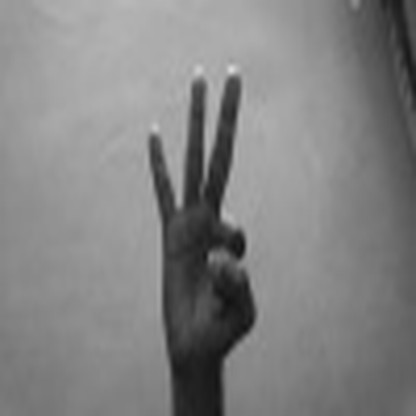f: (133, 58, 286, 367)
